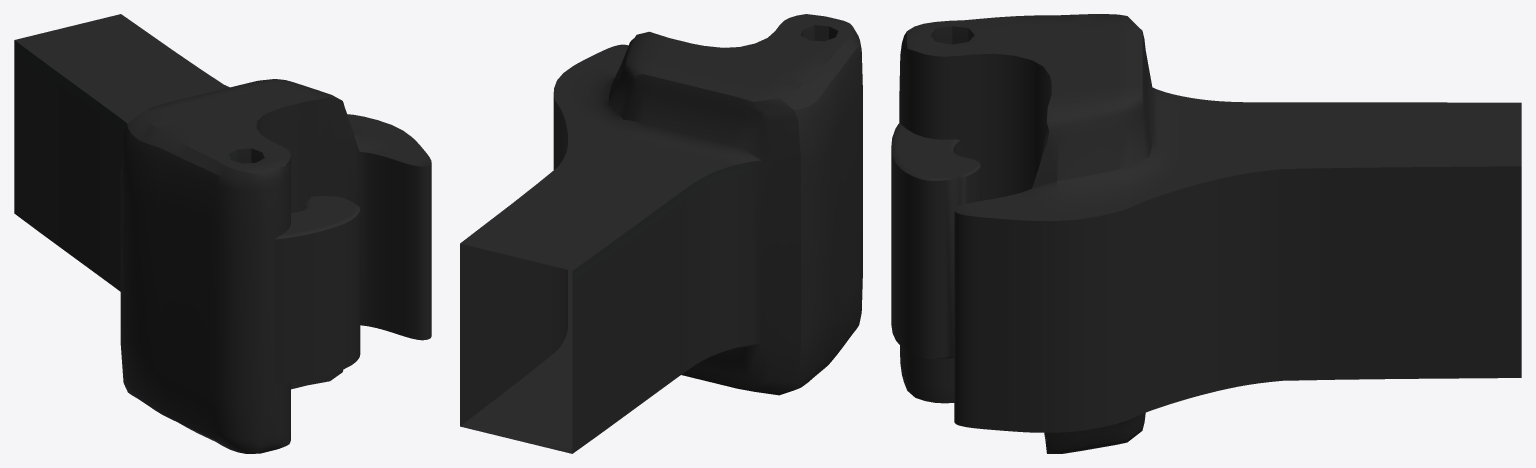
File: coupler.glb
3 views of the same model, side by side, from view 1: azimuth 30°, elevation 25°; view 2: azimuth 150°, elevation 25°; view 3: azimuth 270°, elevation 25° (orthographic). The views are drawn at different scales.
Parts seen in each view (by area): view 1: Coupling.001; view 2: Coupling.001; view 3: Coupling.001.
Boxes of the visible parts, x1=… form: Coupling.001: x1=14, y1=14, x2=431, y2=453; Coupling.001: x1=460, y1=14, x2=862, y2=453; Coupling.001: x1=891, y1=14, x2=1521, y2=453.
Size of the model in its own units: 0.4078 by 0.4278 by 0.705.
Materials: 1 (1 with a texture image).
